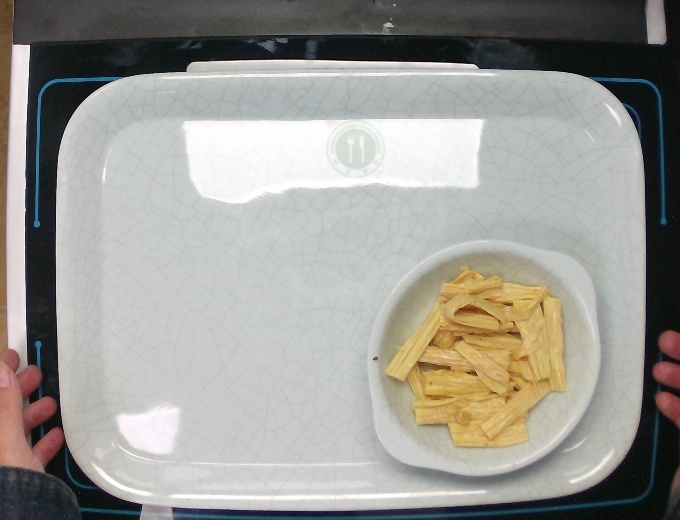JYsf-Shuang_Er_Wan: (366, 239, 608, 486)
